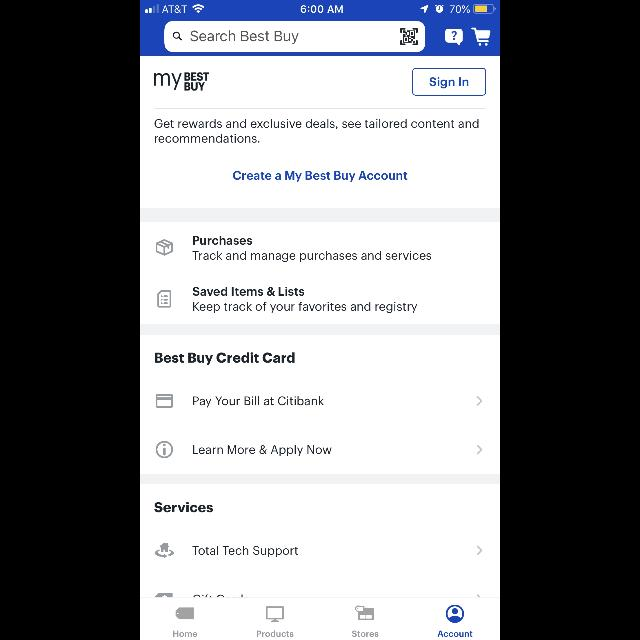icon: (472, 28, 491, 46), (446, 605, 464, 623), (156, 542, 174, 558), (156, 442, 174, 458), (446, 28, 462, 46), (157, 290, 171, 308), (176, 607, 194, 619), (174, 32, 182, 40), (477, 396, 483, 406), (477, 446, 483, 454), (478, 546, 482, 556)
image: (154, 73, 210, 91), (400, 28, 418, 46), (266, 606, 284, 622), (156, 240, 172, 256), (356, 606, 374, 620), (156, 394, 174, 408)
input: (164, 22, 426, 52)
text: (155, 119, 479, 143), (193, 252, 431, 262), (193, 302, 417, 312), (155, 352, 295, 366), (233, 172, 407, 182), (193, 397, 324, 408), (191, 31, 299, 44), (193, 446, 331, 456), (193, 286, 304, 296), (193, 546, 299, 556), (154, 502, 213, 512), (194, 236, 252, 244), (256, 631, 294, 637), (438, 631, 472, 637), (352, 631, 378, 637), (173, 631, 197, 637)
textbutton: (412, 68, 486, 95)
uppertaskbar: (140, 0, 500, 14)
